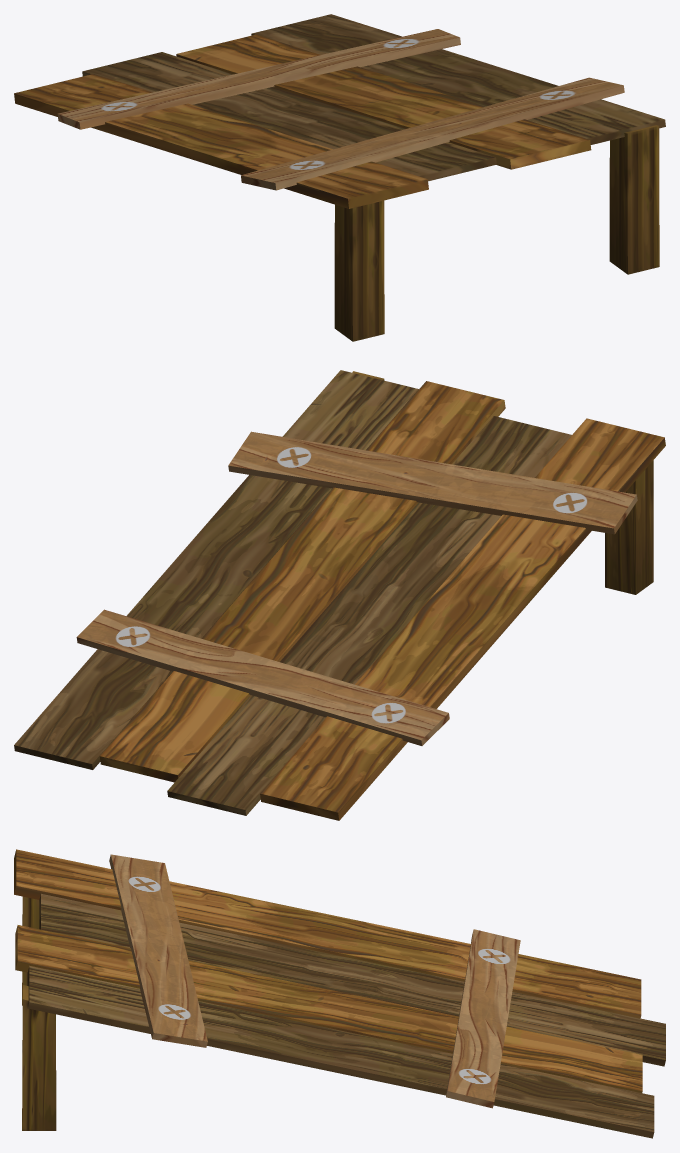
File: ramp.glb
The picture shows the model from 3 angles, top to bottom: view 1: azimuth 30°, elevation 25°; view 2: azimuth 150°, elevation 25°; view 3: azimuth 270°, elevation 25°; orthographic projection. The views are drawn at different scales.
Parts seen in each view (by area): view 1: Cube.006; view 2: Cube.006; view 3: Cube.006.
Boxes of the visible parts, left/top/right/bottom form: Cube.006: left=14, top=14, right=665, bottom=341; Cube.006: left=14, top=370, right=665, bottom=820; Cube.006: left=14, top=849, right=665, bottom=1138.
Bounding box in the file's own units: 1.55 × 0.6016 × 2.48.
1 material, 1 textured.
